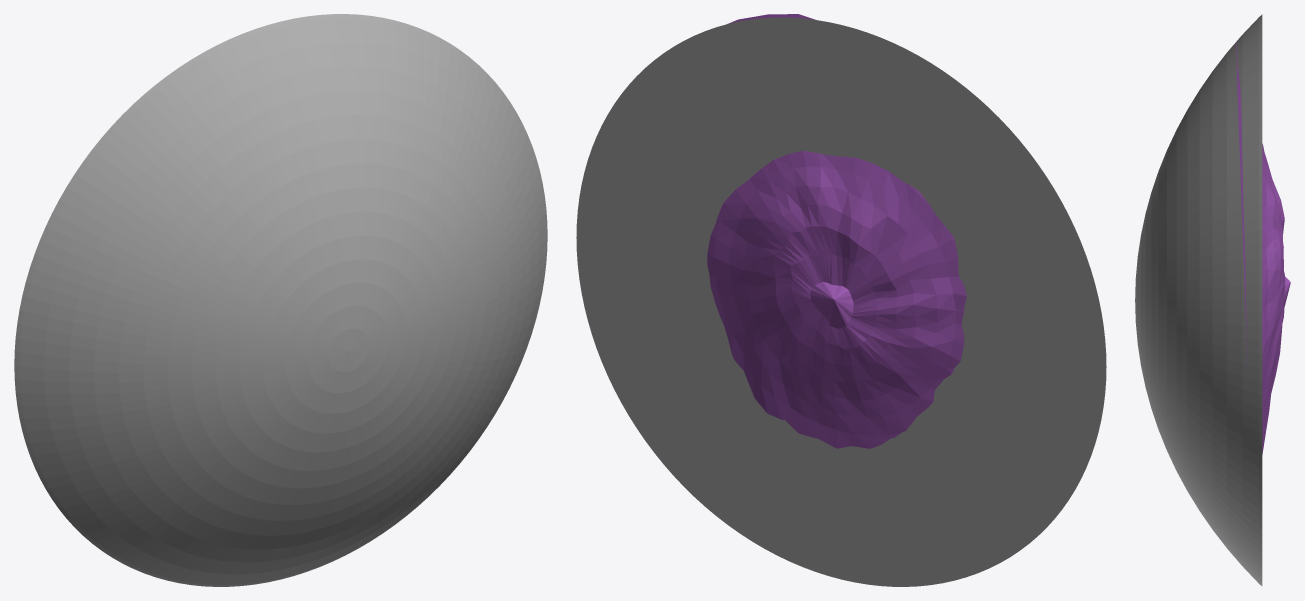
File: G09_A2_ALIGNED_GT.glb
3 views of the same model, side by side, from view 1: azimuth 30°, elevation 25°; view 2: azimuth 150°, elevation 25°; view 3: azimuth 270°, elevation 25° (orthographic). The views are drawn at different scales.
Visible parts, largest first — view 1: Independent_GT; view 2: Independent_GT, A2; view 3: Independent_GT, A2.
Part boxes in pixels (left/top/right/bottom): Independent_GT: left=14, top=14, right=547, bottom=586; Independent_GT: left=576, top=17, right=1106, bottom=586; A2: left=707, top=14, right=966, bottom=448; Independent_GT: left=1135, top=14, right=1262, bottom=586; A2: left=1236, top=42, right=1290, bottom=454.
Bounding box in the file's own units: 0.0045 × 0.0045 × 0.00122.
